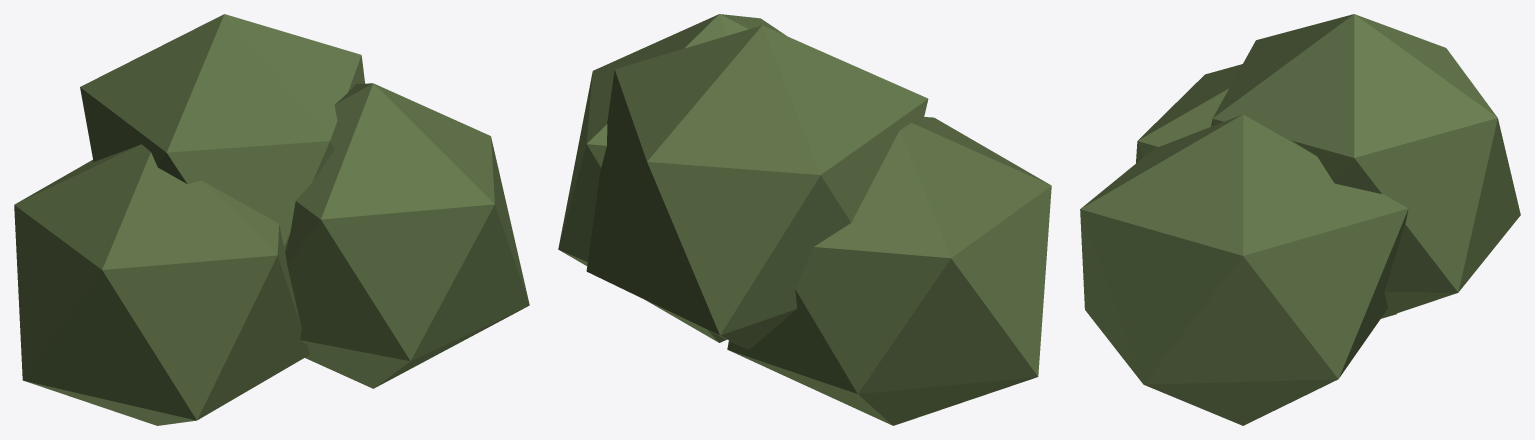
Rendered from shrub.glb.
3 renders of one model, left to right at view 1: azimuth 30°, elevation 25°; view 2: azimuth 150°, elevation 25°; view 3: azimuth 270°, elevation 25°, orthographic. The views are drawn at different scales.
Visible parts, largest first — view 1: shrub_visual; view 2: shrub_visual; view 3: shrub_visual.
Part boxes in pixels (<box>): shrub_visual: <box>14,14,529,425</box>; shrub_visual: <box>558,14,1051,425</box>; shrub_visual: <box>1080,14,1520,425</box>.
Size of the model in its own units: 1.87 by 1.49 by 1.59.
